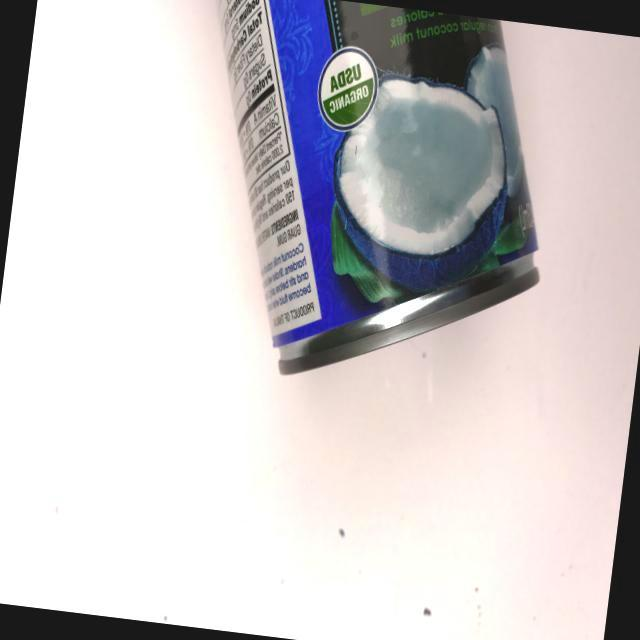metal: (134, 0, 580, 410)
